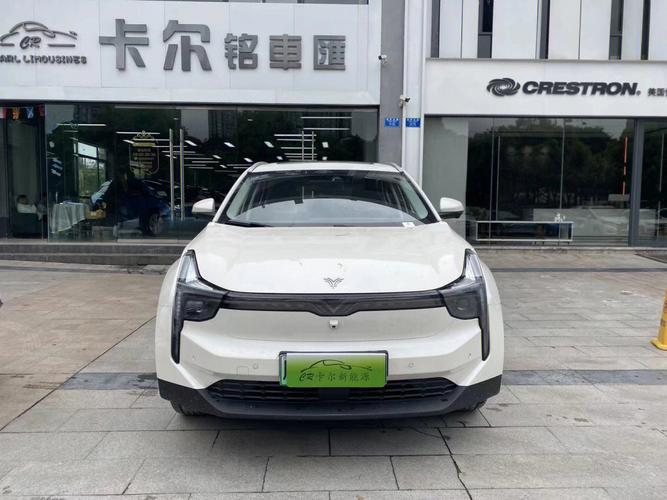NETA: (324, 276, 345, 289)
